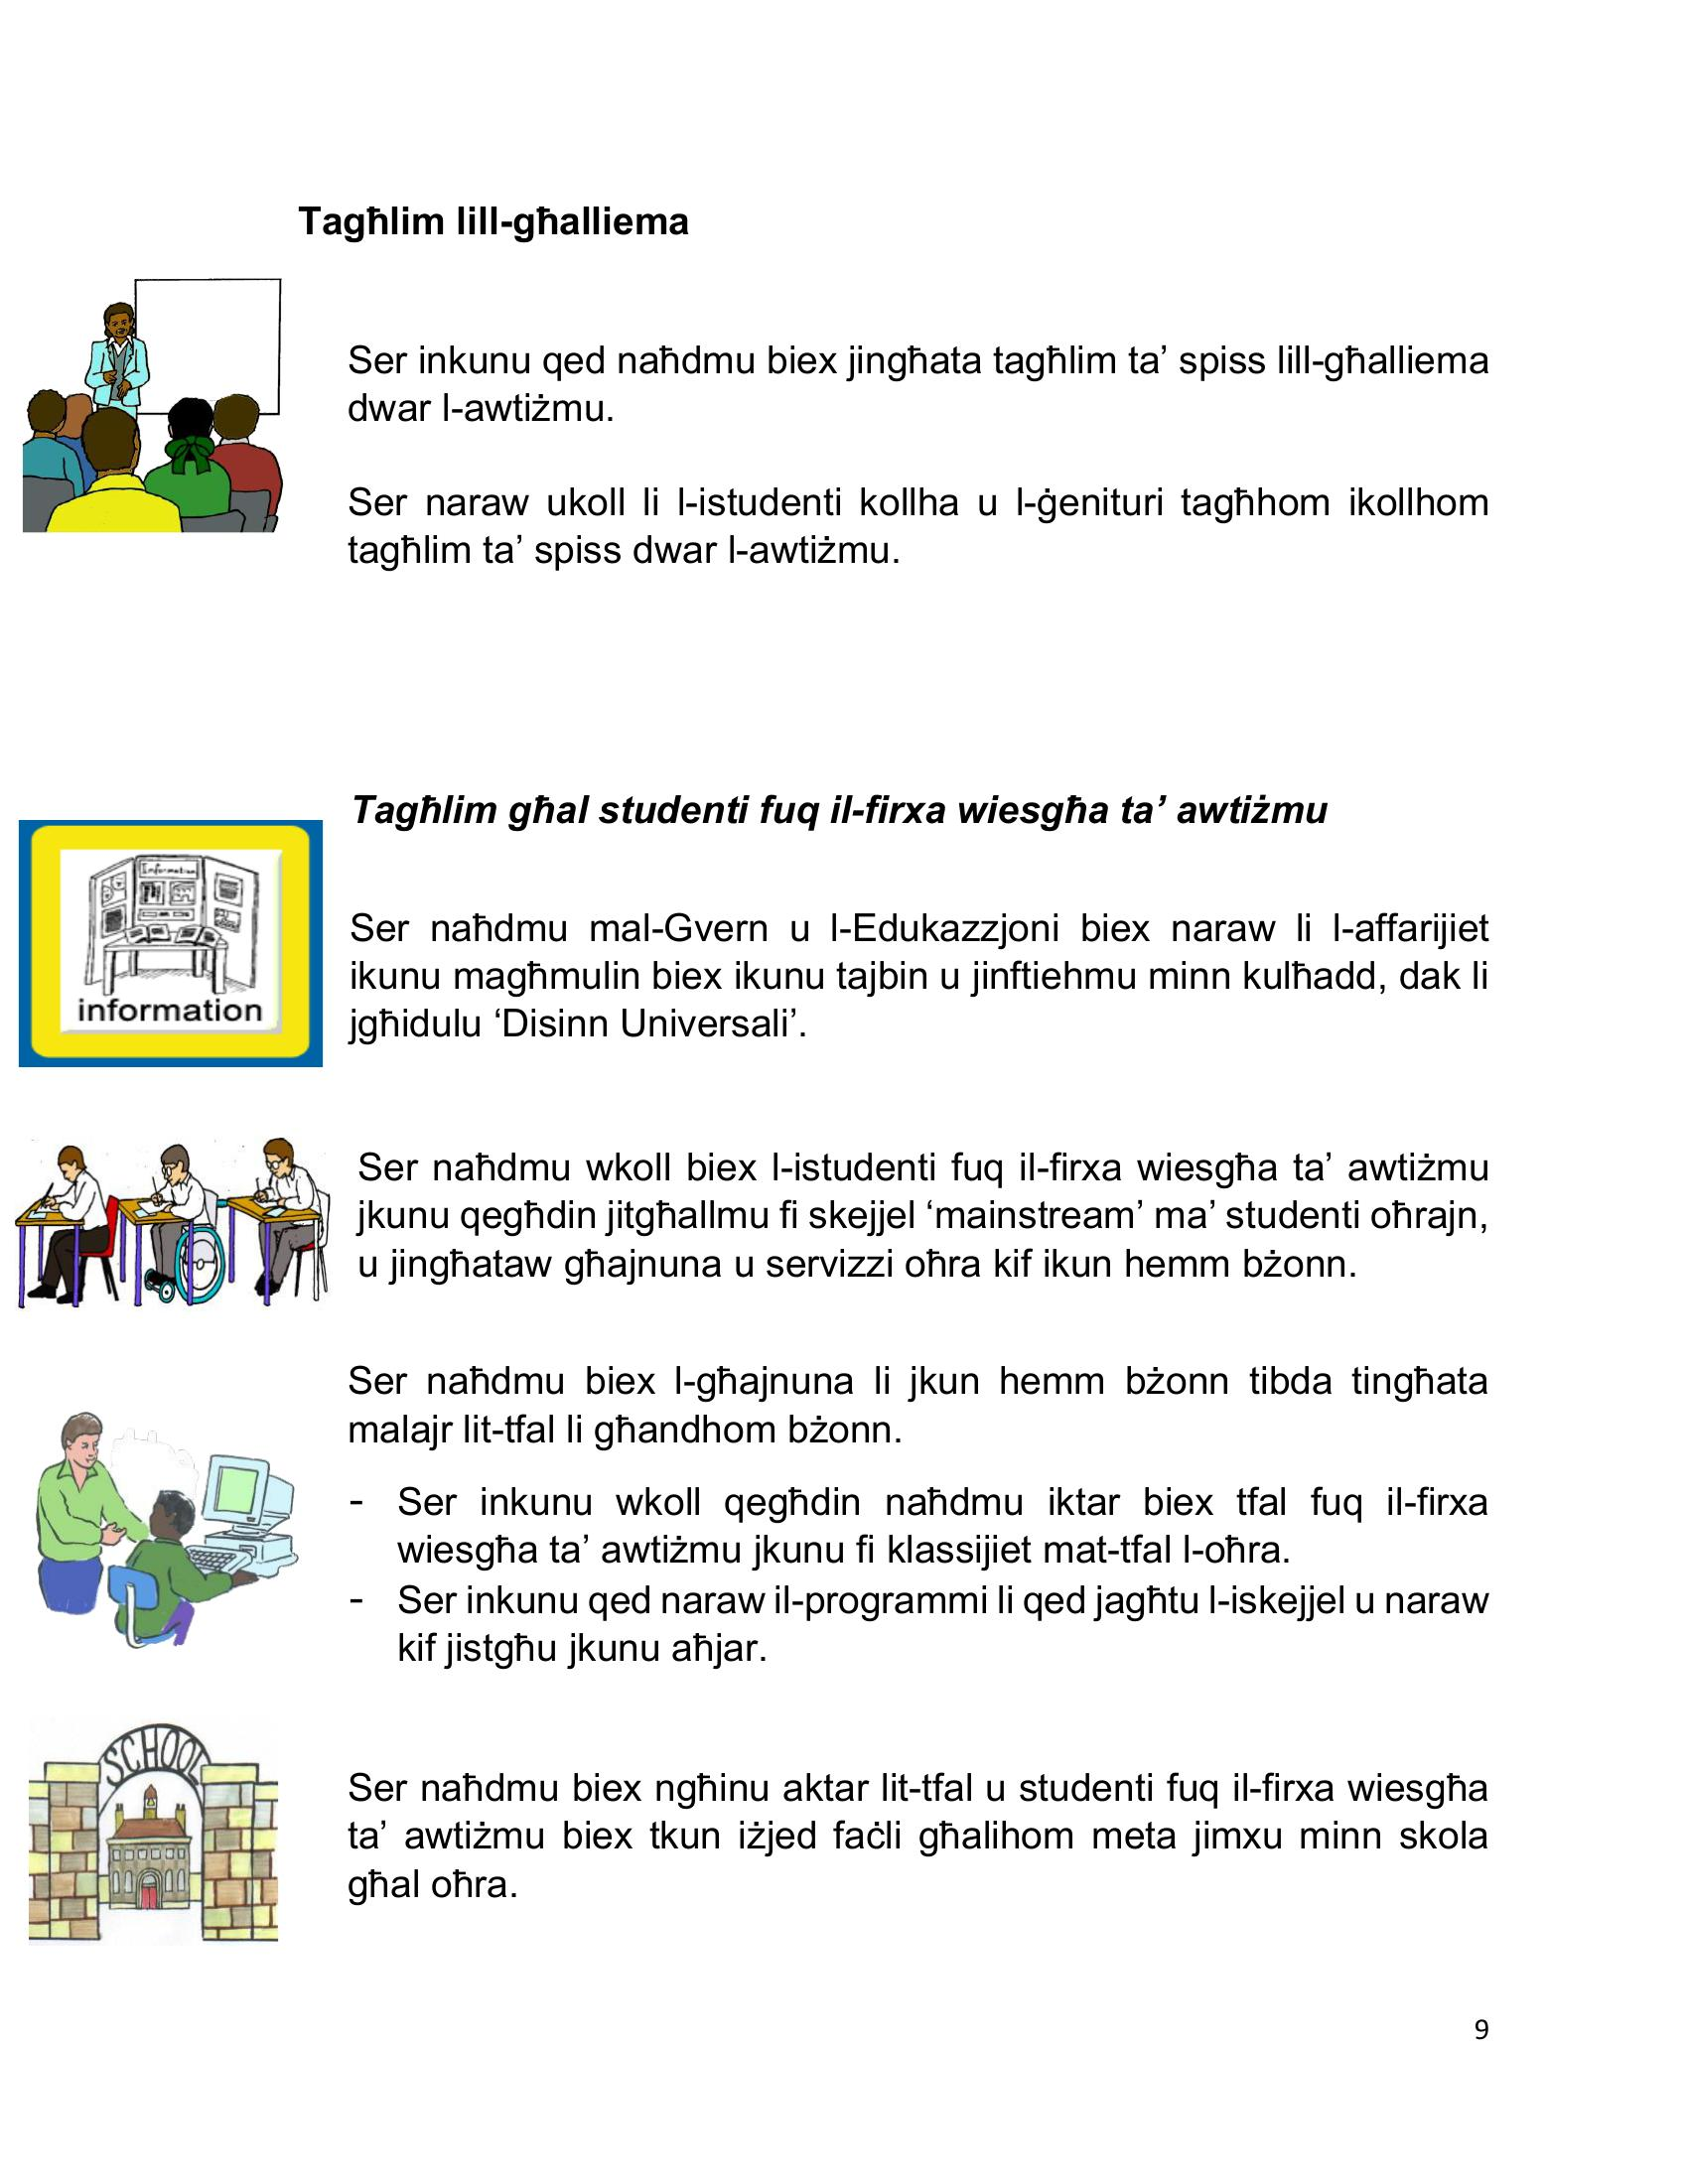text: (339, 317, 1514, 1930), (277, 177, 706, 262)
